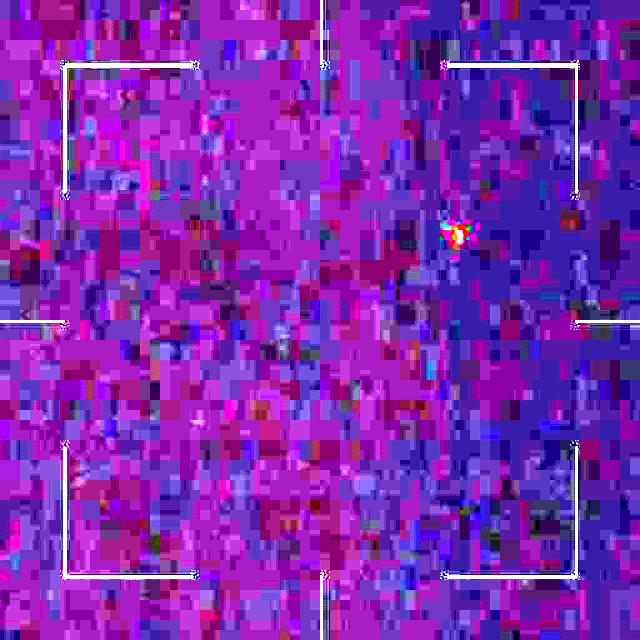bird: (454, 222, 470, 248)
